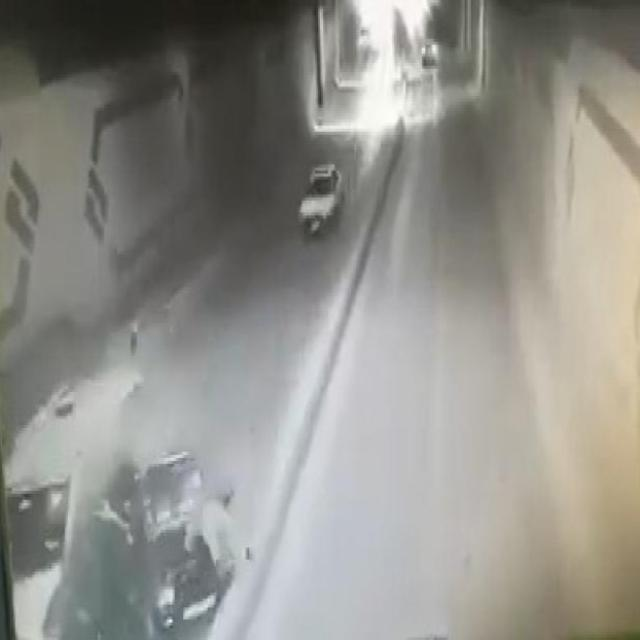accident: (0, 365, 242, 639)
